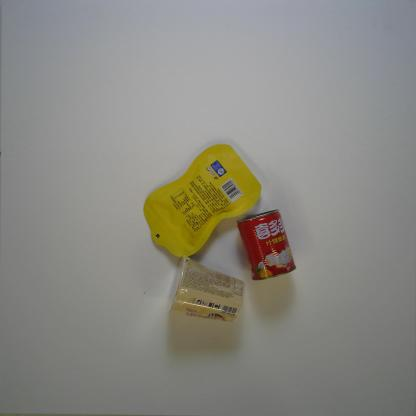Canned Food: (236, 207, 298, 282)
Dried Fruit: (142, 141, 263, 259)
Instant Noodles: (164, 253, 248, 327)
